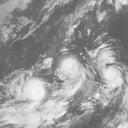cyclone: (93, 46, 124, 87), (57, 55, 84, 84), (22, 78, 47, 101)
